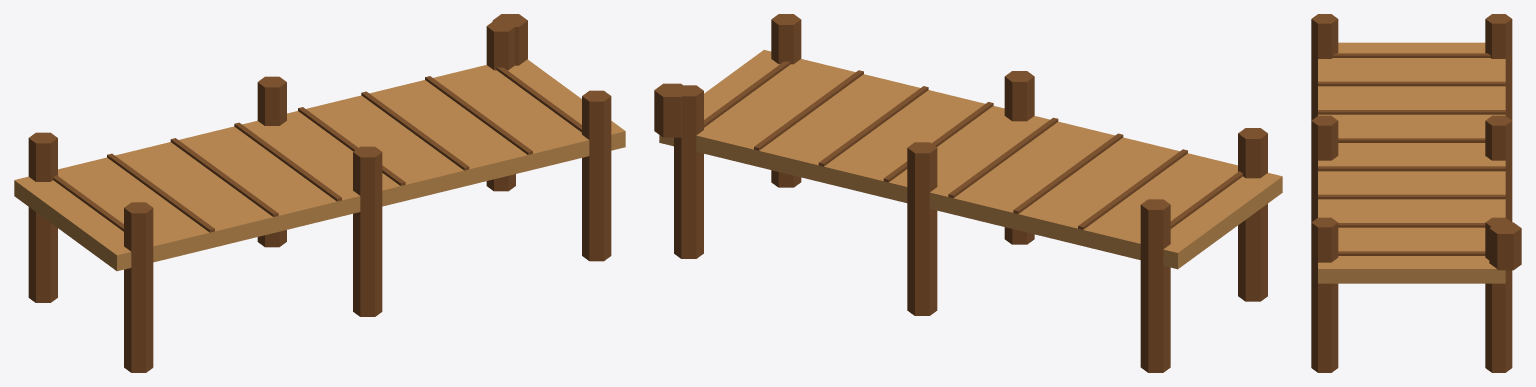
Rendered from town_pier_dock.glb.
3 views of the same model, side by side, from view 1: azimuth 30°, elevation 25°; view 2: azimuth 150°, elevation 25°; view 3: azimuth 270°, elevation 25° (orthographic). The views are drawn at different scales.
Visible parts, largest first — view 1: pier_dock; view 2: pier_dock; view 3: pier_dock.
Part boxes in pixels (<box>): pier_dock: <box>14,14,625,372</box>; pier_dock: <box>654,14,1282,372</box>; pier_dock: <box>1311,14,1521,372</box>.
Size of the model in its own units: 4 by 1.2 by 1.57.
